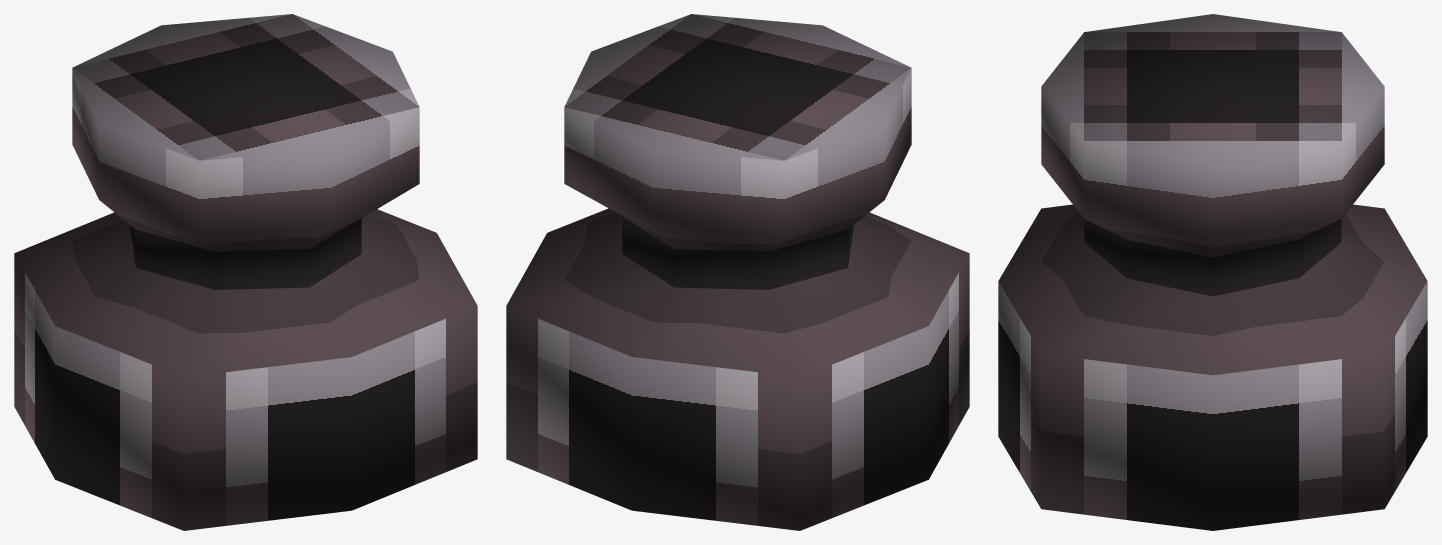
Rendered from ink.fbx.
3 renders of one model, left to right at view 1: azimuth 30°, elevation 25°; view 2: azimuth 150°, elevation 25°; view 3: azimuth 270°, elevation 25°, orthographic.
Parts seen in each view (by area): view 1: InkBottle; view 2: InkBottle; view 3: InkBottle.
Part boxes in pixels (<box>): InkBottle: <box>14,14,477,530</box>; InkBottle: <box>506,14,969,530</box>; InkBottle: <box>998,14,1427,530</box>.
Size of the model in its own units: 32.5 by 28.13 by 31.25.
Materials: 1 (1 with a texture image).
